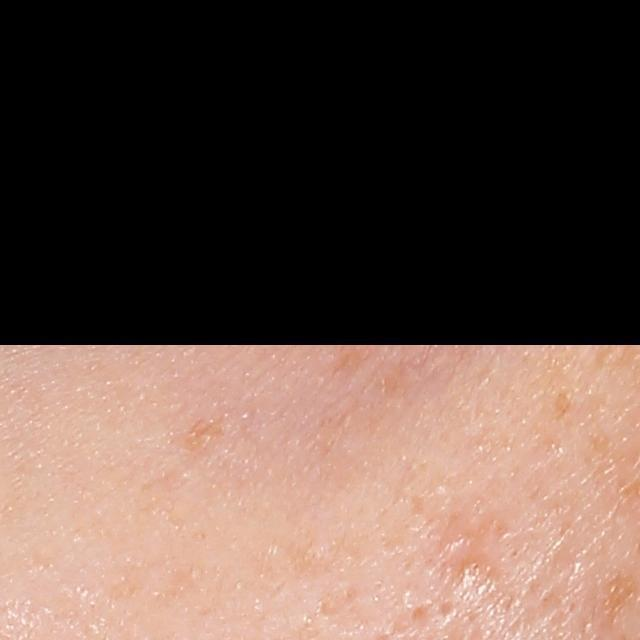melasma: (174, 409, 229, 461), (589, 313, 629, 373), (547, 384, 572, 425)
